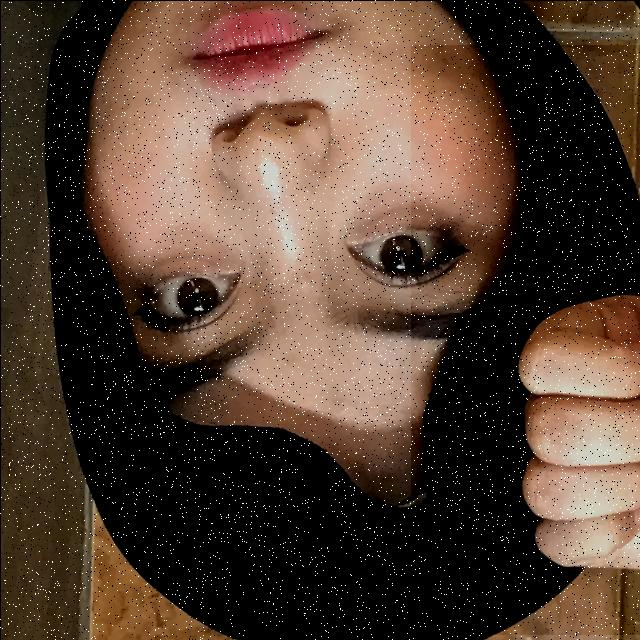sedih: (410, 44, 640, 634)
